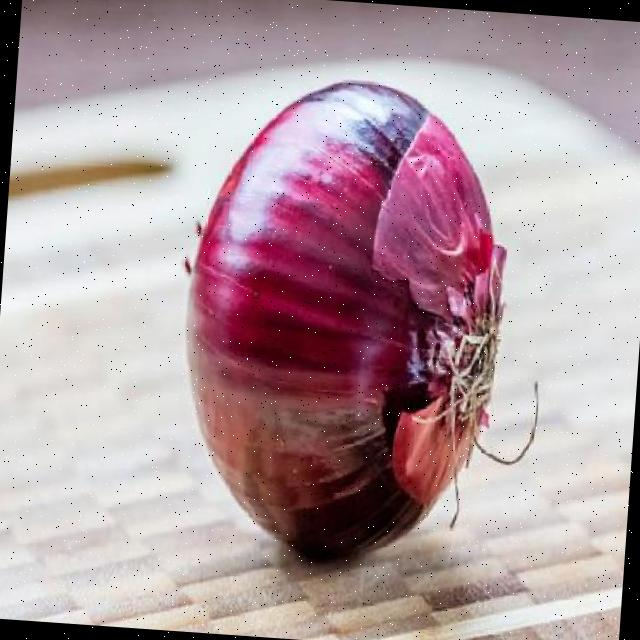Onion: (187, 82, 506, 559)
